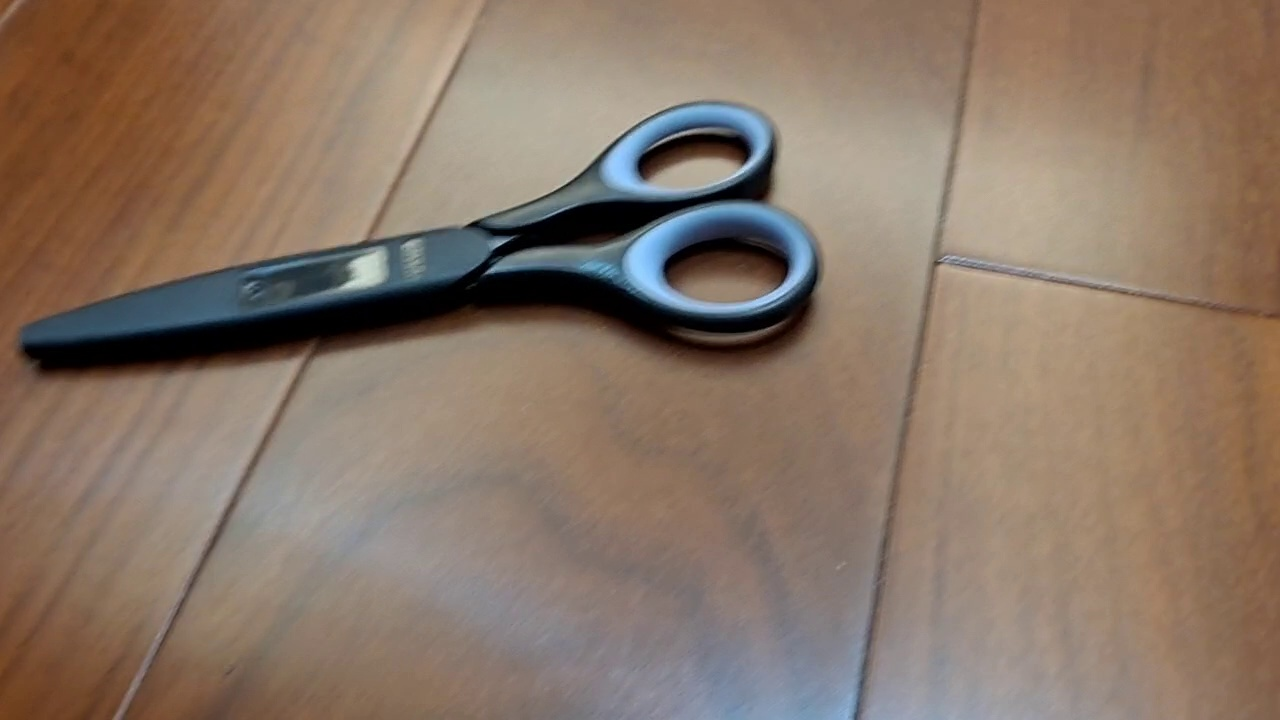scissors: (10, 97, 826, 386)
